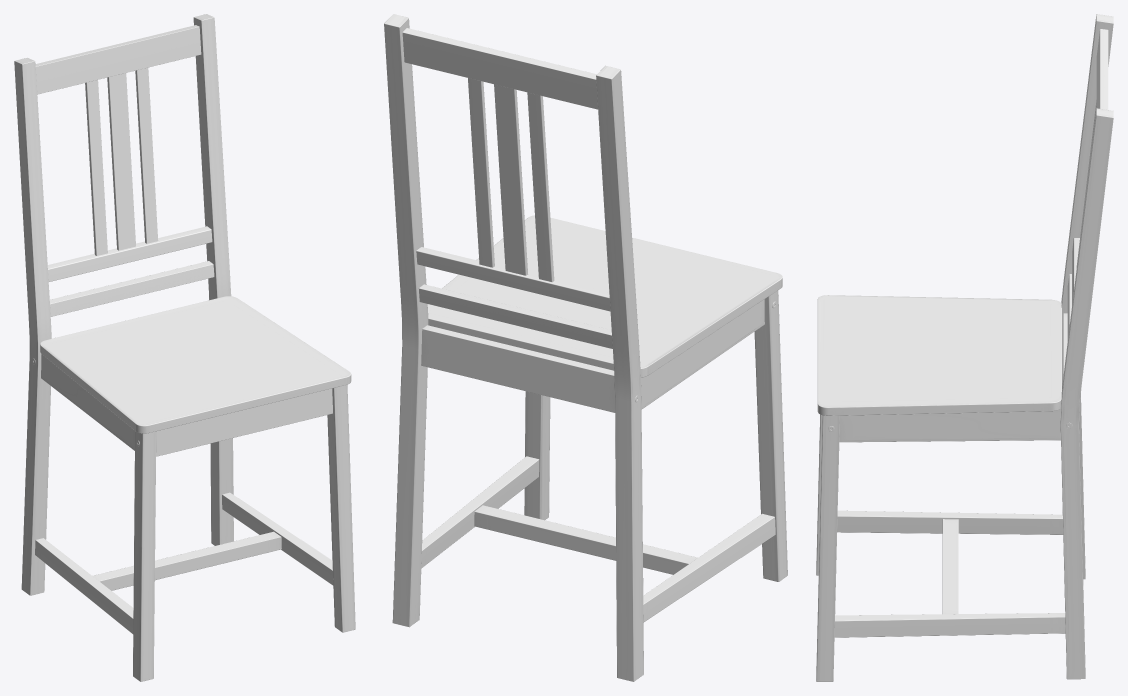
File: chair-1.glb
The picture shows the model from 3 angles, left to right: view 1: azimuth 30°, elevation 25°; view 2: azimuth 150°, elevation 25°; view 3: azimuth 270°, elevation 25°; orthographic projection. The views are drawn at different scales.
Visible parts, largest first — view 1: chair_blank.1; view 2: chair_blank.1; view 3: chair_blank.1.
Part boxes in pixels (x1,y1,x2,y2): chair_blank.1: (14, 14, 355, 681); chair_blank.1: (384, 14, 787, 681); chair_blank.1: (816, 14, 1113, 681).
Bounding box in the file's own units: 0.0787 × 0.1816 × 0.0873.
Materials: 1 (1 with a texture image).
